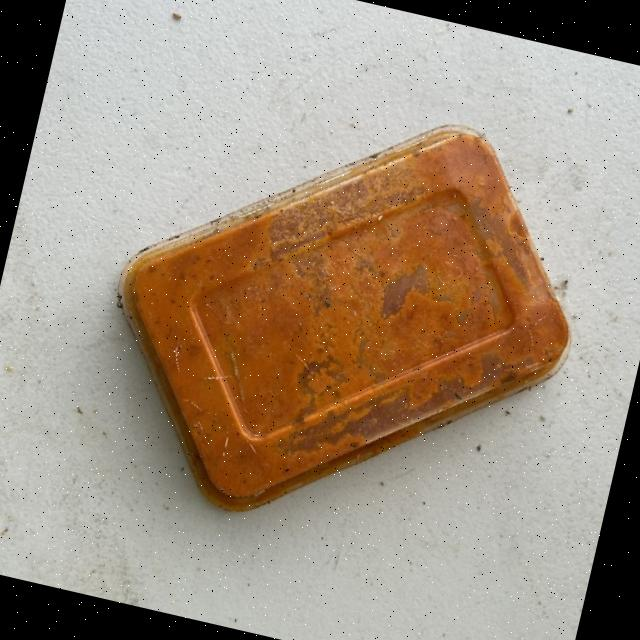plastic: (72, 56, 612, 577)
